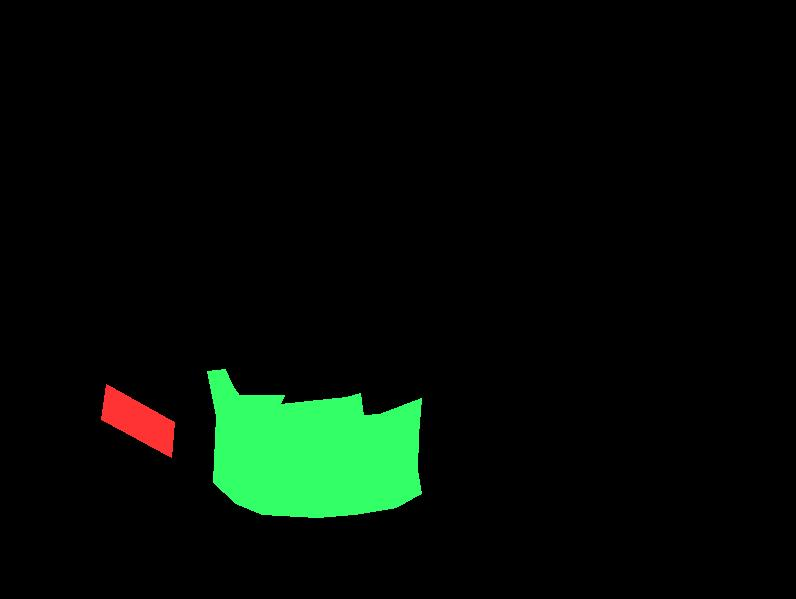Broken part: (207, 369, 421, 517)
Missing part: (101, 384, 174, 457)
